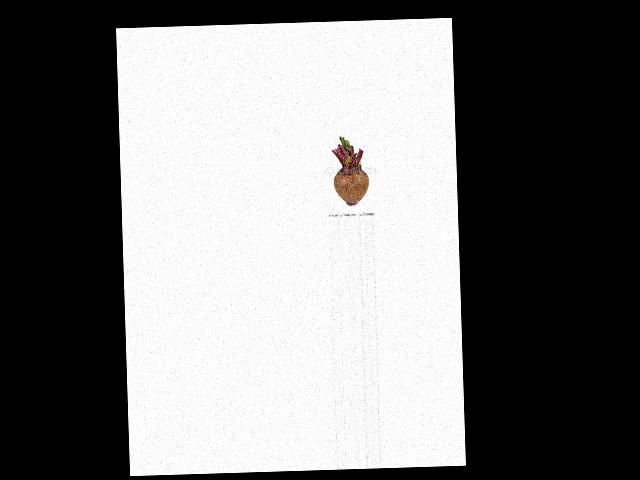beet: (331, 135, 370, 205)
